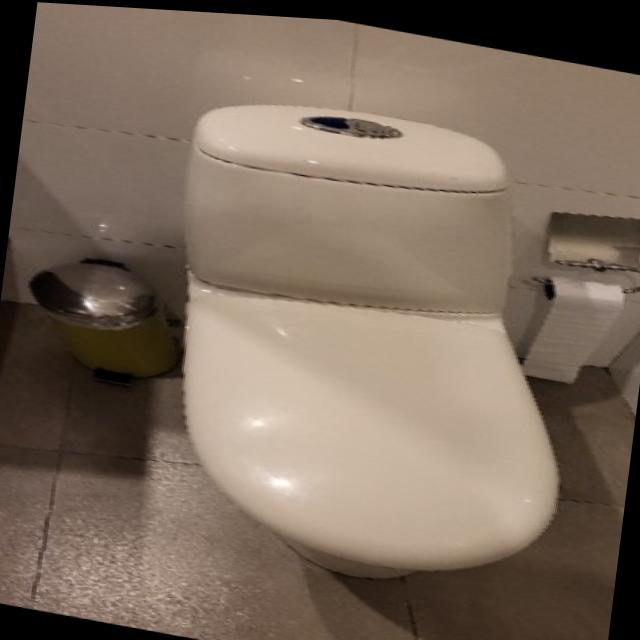toilet: (139, 74, 603, 607)
